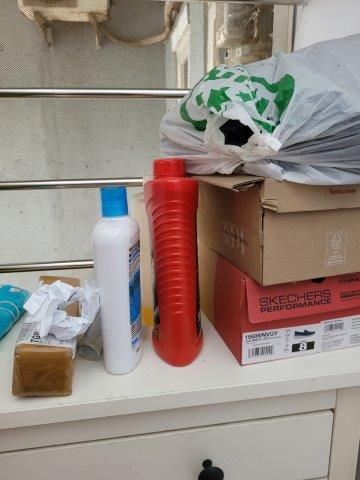kertas: (28, 277, 104, 344)
plastik: (152, 33, 360, 178)
